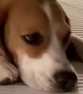Dog: (2, 7, 78, 91)
